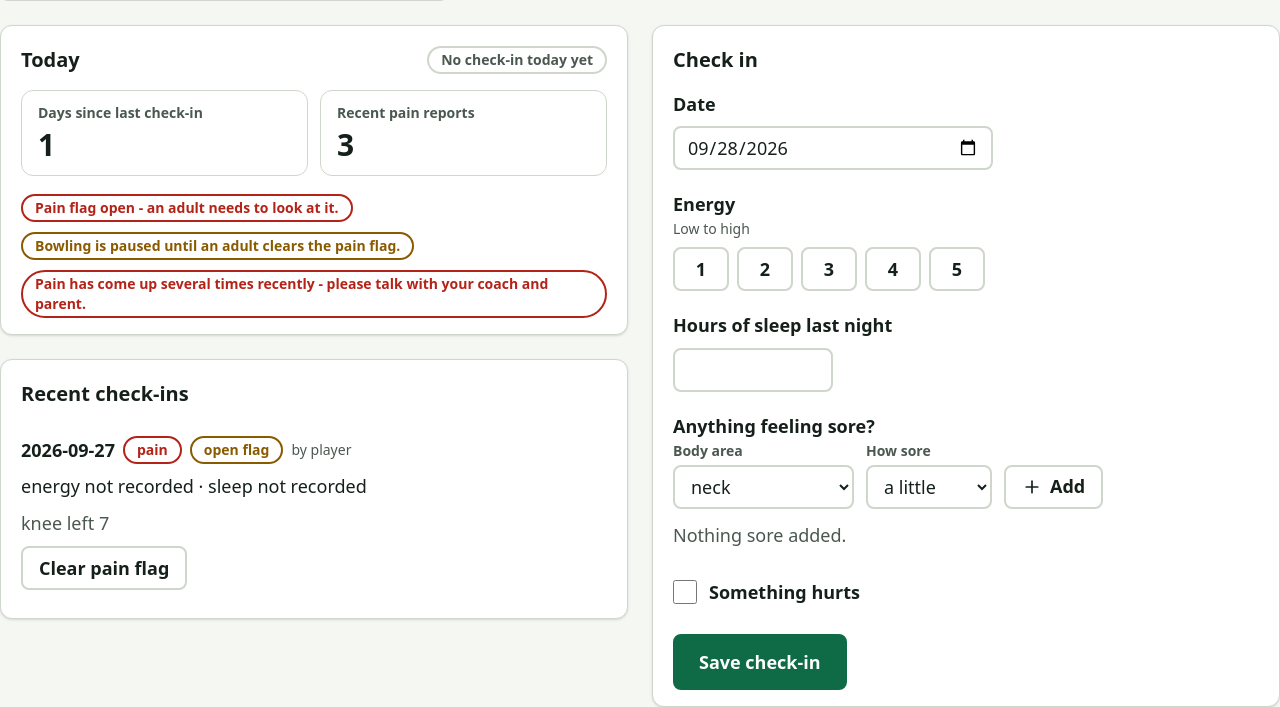
it: adult pain clearance › clears a pain check-in that has no note
This screenshot has width=1280, height=707.
(page scrolled)
Click the button "Clear pain flag" at [104, 568], box [21, 546, 187, 590]
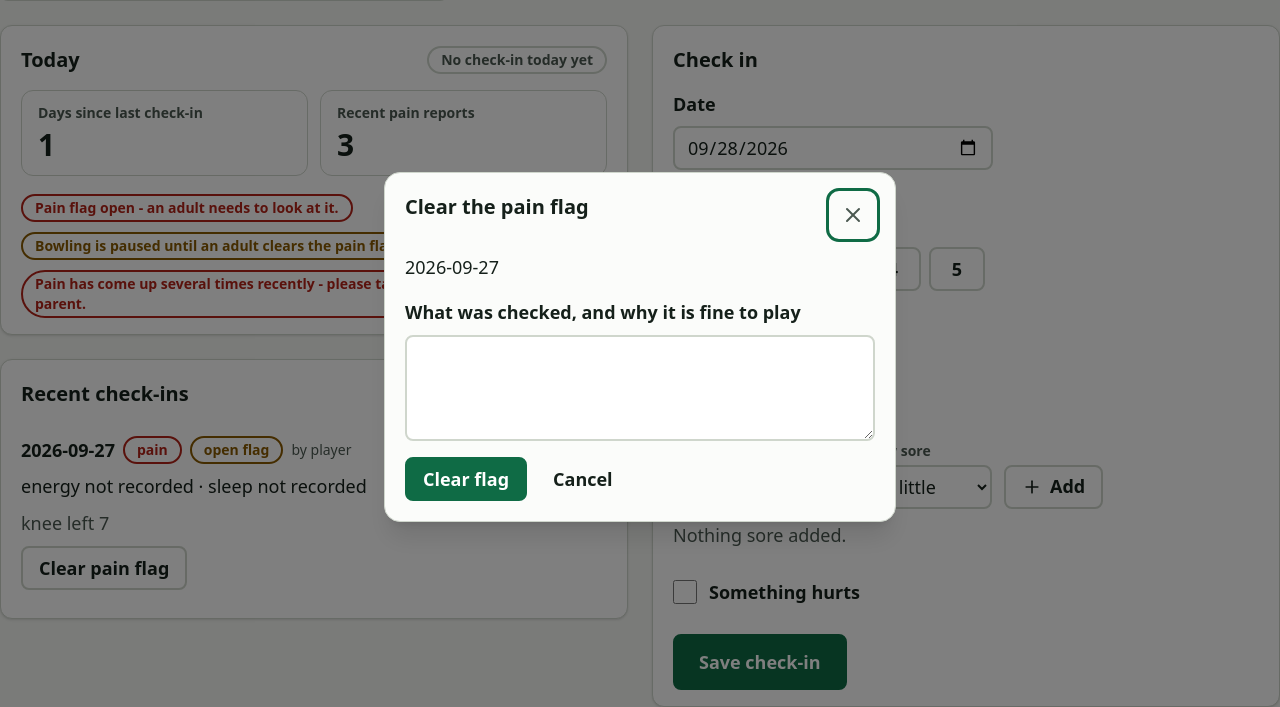
Expected: the dialog does not show "—", [384, 172, 896, 522]
Expected: the dialog shows "2026-09-27", [405, 255, 499, 279]
